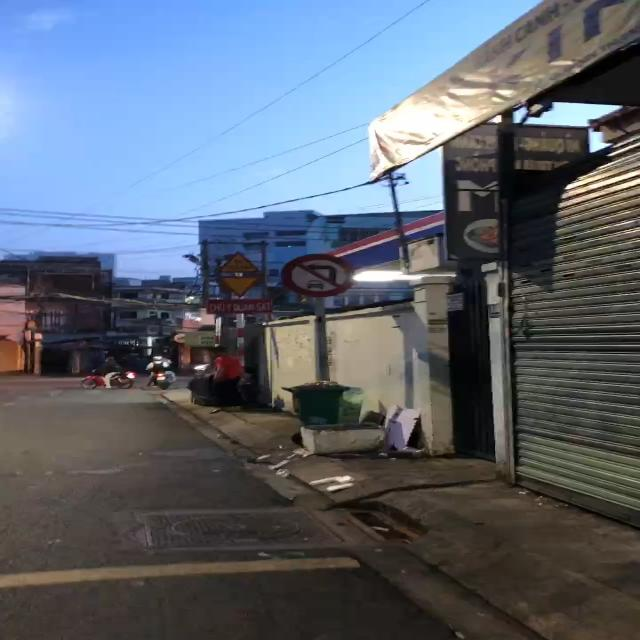Bien bao cam xe o to re trai: (278, 252, 360, 302)
Bien bao giao nhau voi duong uu tien: (213, 274, 265, 298)
